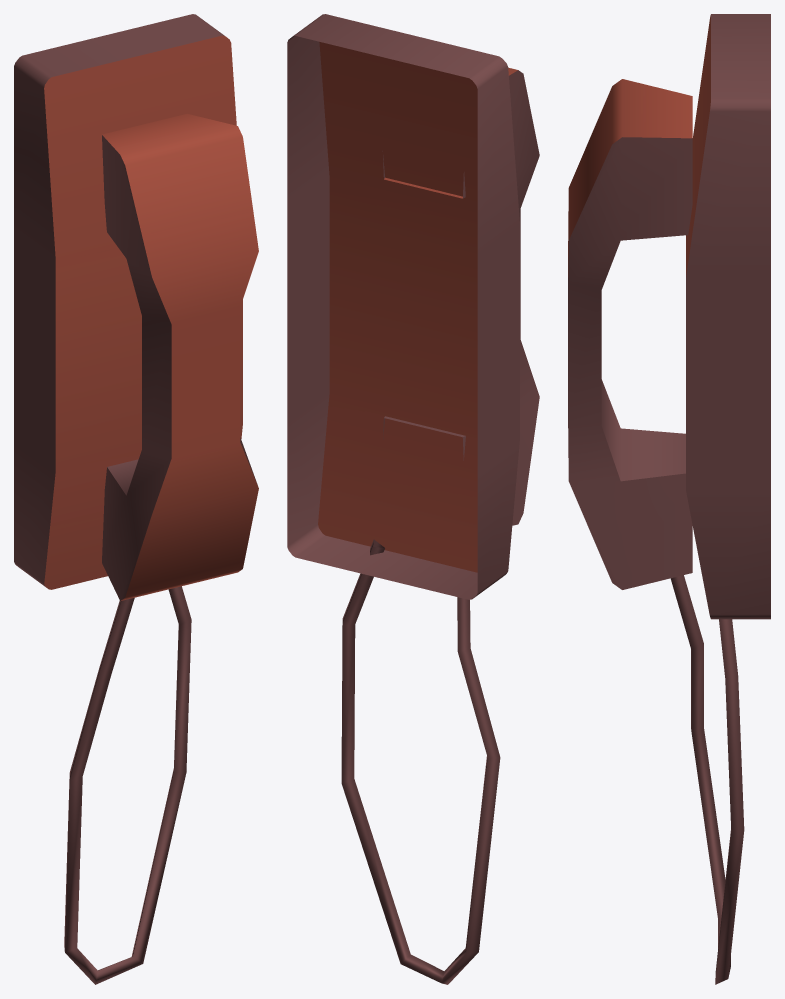
File: Telepon 1.FBX
3 views of the same model, side by side, from view 1: azimuth 30°, elevation 25°; view 2: azimuth 150°, elevation 25°; view 3: azimuth 270°, elevation 25° (orthographic).
Visible parts, largest first — view 1: Box001; view 2: Box001; view 3: Box001.
Boxes of the visible parts, x1=… form: Box001: x1=14, y1=14, x2=258, y2=984; Box001: x1=287, y1=14, x2=539, y2=984; Box001: x1=568, y1=14, x2=770, y2=984.
Bounding box in the file's own units: 11.73 × 55.21 × 10.85.
